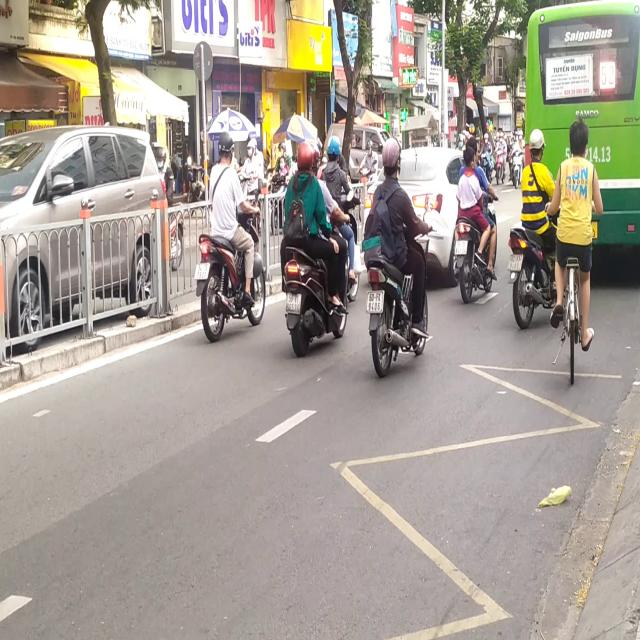bien_trang: (283, 287, 305, 319), (367, 287, 385, 315)
